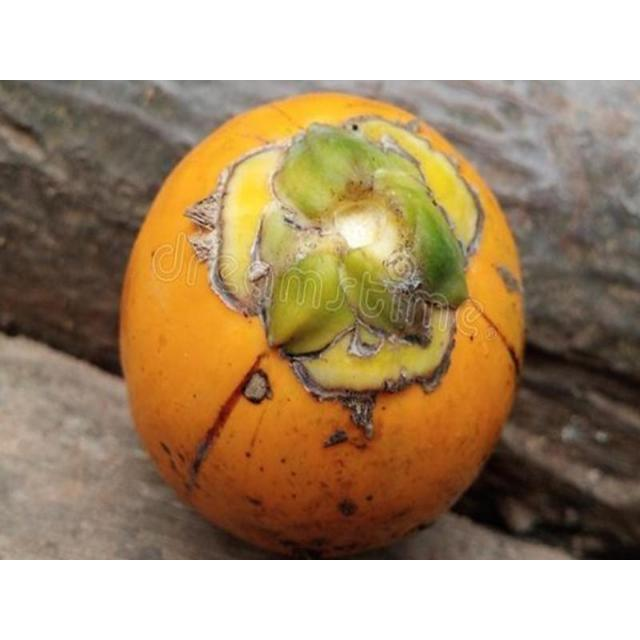good: (118, 91, 526, 559)
